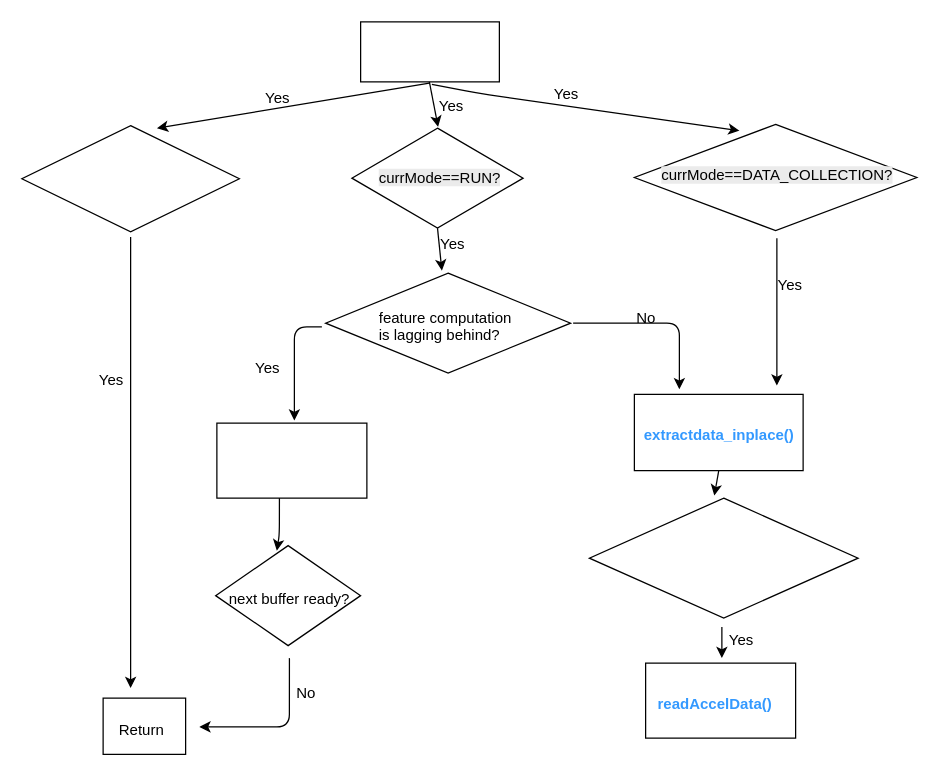
This 939x776 diagram has some shape labels left out. Here are the shapes that lost their labels. From the top down, the centre of each, then its label:
At (x=429, y=51): "i2s_rx_callback".
At (x=130, y=178): "currMode==CHARGING?".
At (x=291, y=460): "reset all sampling routines".
At (x=723, y=557): "accel_counter == ACCEL_COUNTER_TARGET?".
